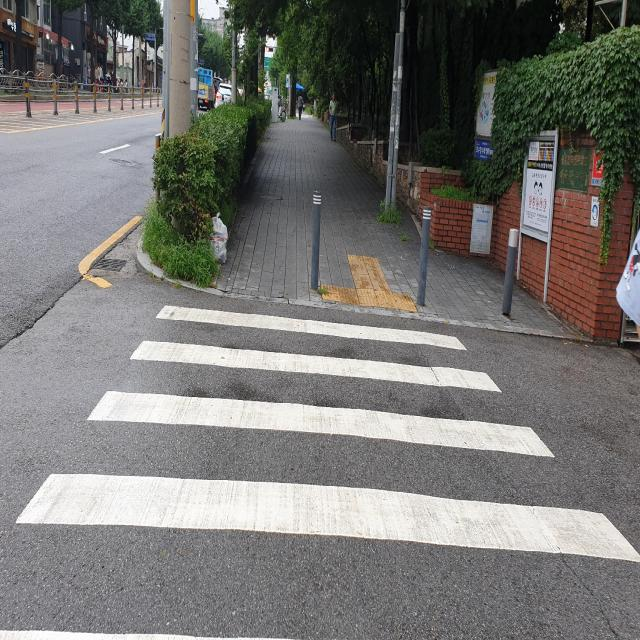횡단보도: (0, 302, 640, 640)
